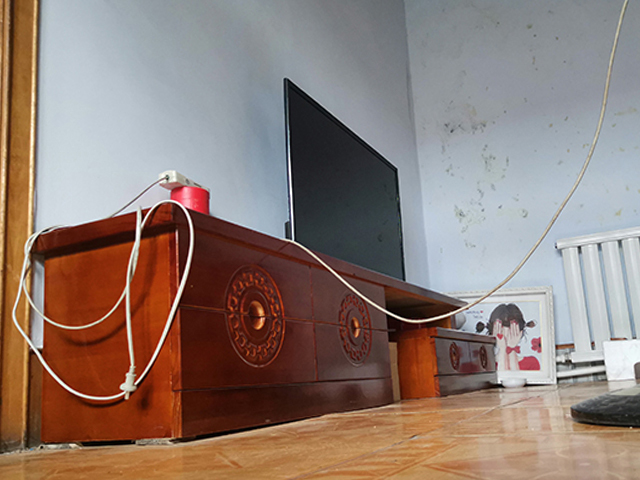cabinet: (28, 199, 501, 446)
